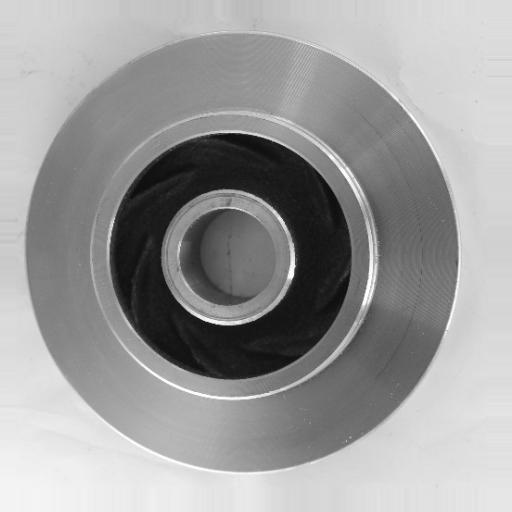polished_casting: (23, 29, 464, 476)
